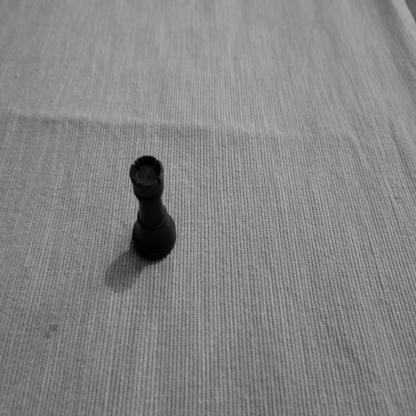black-rook: (129, 155, 177, 262)
